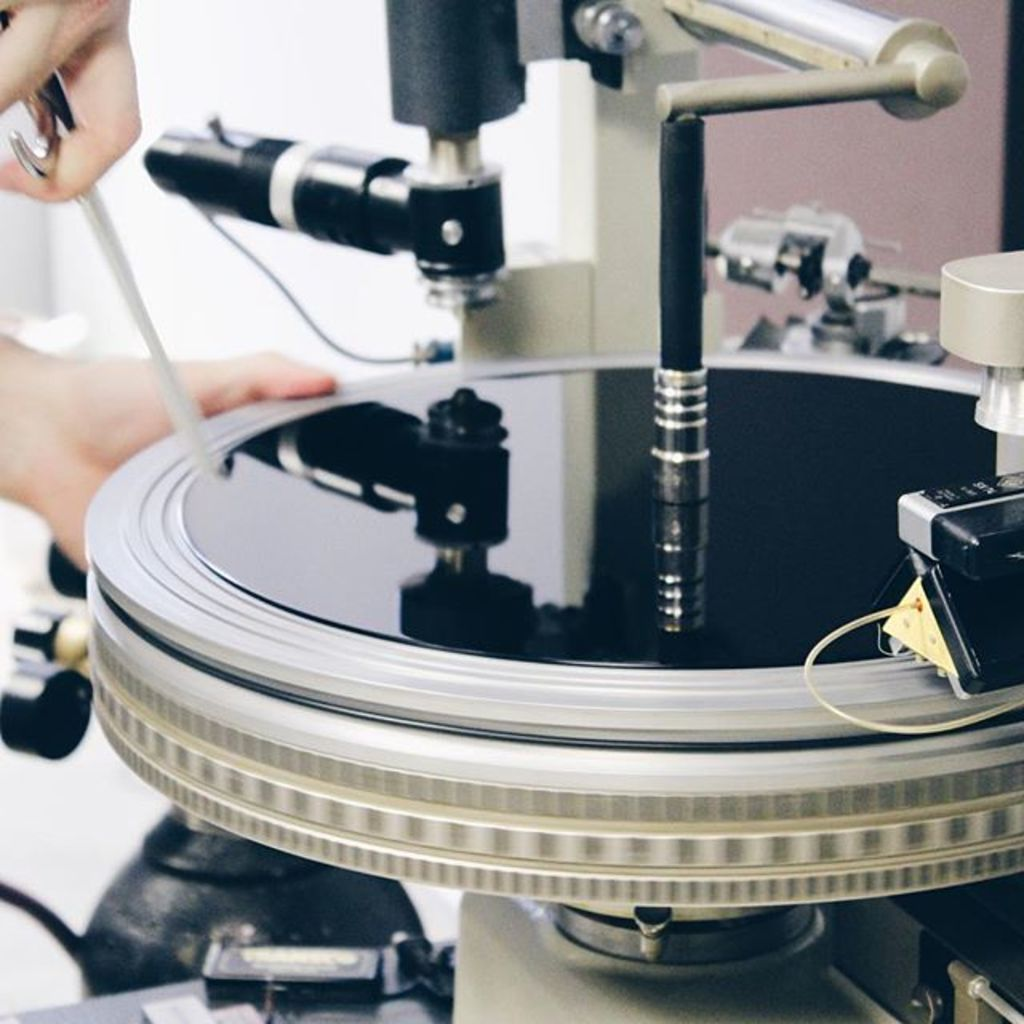Human_hand: (42, 350, 338, 574)
